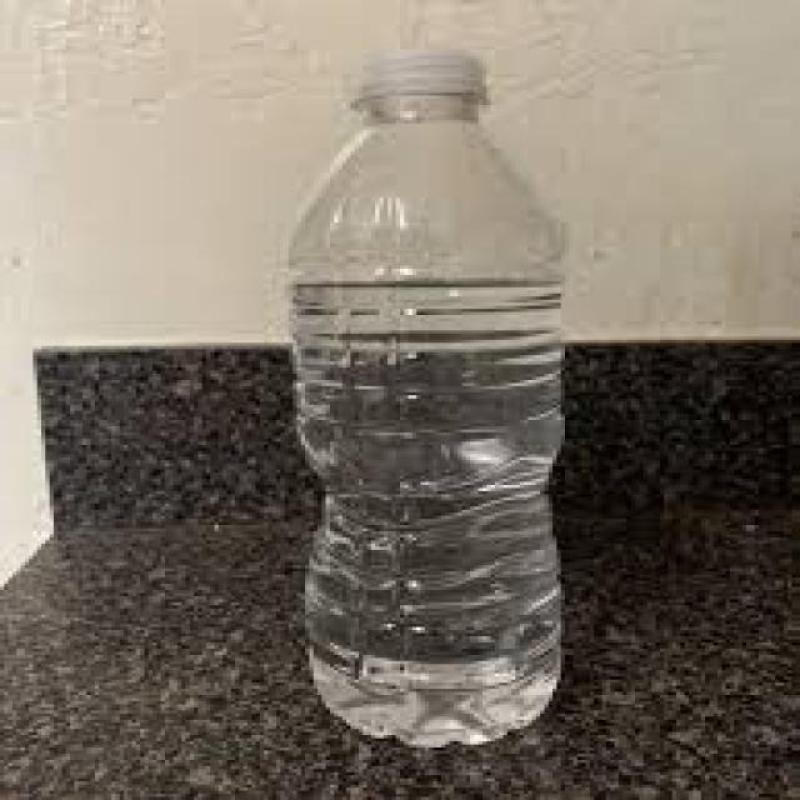botella: (274, 50, 580, 750)
